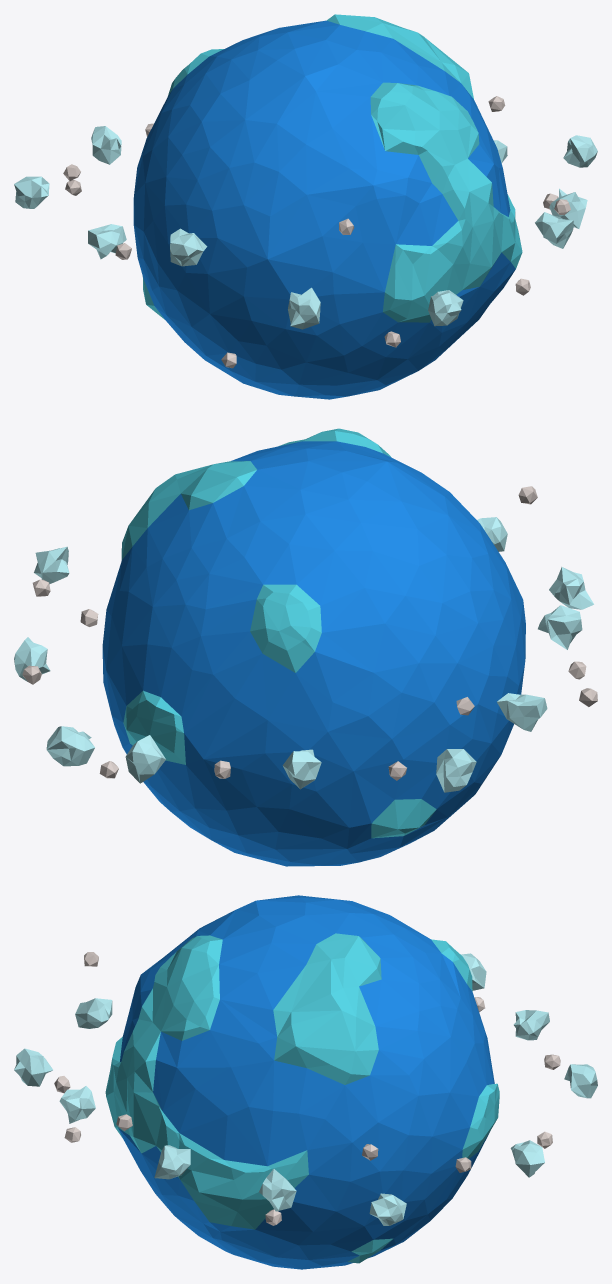
The model's file is PlanetOrbitalWaste.glb.
The picture shows the model from 3 angles, top to bottom: view 1: azimuth 30°, elevation 25°; view 2: azimuth 150°, elevation 25°; view 3: azimuth 270°, elevation 25°; orthographic projection. The views are drawn at different scales.
Visible parts, largest first — view 1: Planet_28; view 2: Planet_28; view 3: Planet_28.
Boxes of the visible parts, <box> form: Planet_28: <box>14,14,597,399</box>; Planet_28: <box>14,428,597,866</box>; Planet_28: <box>14,895,597,1269</box>.
Bounding box in the file's own units: 29.83 × 20.03 × 31.28.
1 material, 1 textured.
